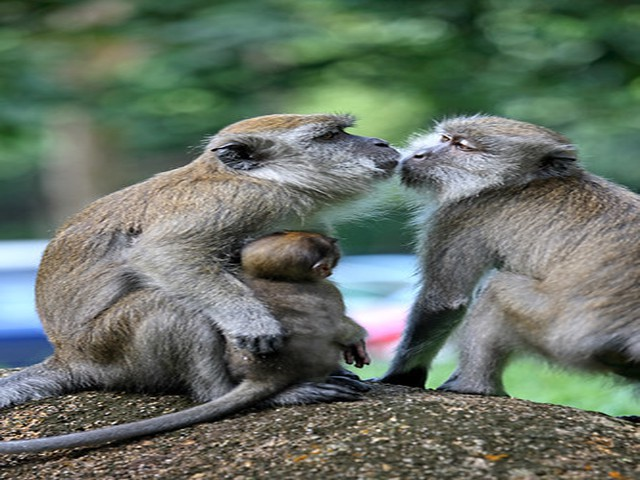Monkey: (28, 107, 640, 408)
